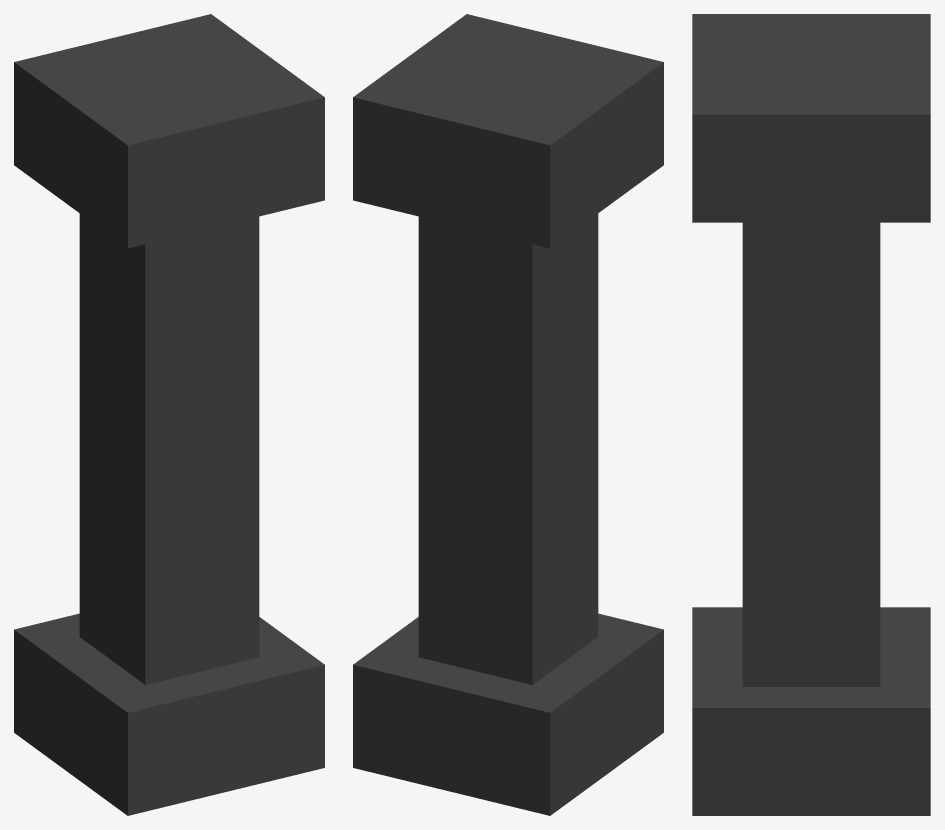
The model's file is pilar3.obj.
3 renders of one model, left to right at view 1: azimuth 30°, elevation 25°; view 2: azimuth 150°, elevation 25°; view 3: azimuth 270°, elevation 25°, orthographic. The views are drawn at different scales.
Parts seen in each view (by area): view 1: Pillar.007; view 2: Pillar.007; view 3: Pillar.007.
Part boxes in pixels (left/top/right/bottom): Pillar.007: left=14, top=14, right=324, bottom=815; Pillar.007: left=353, top=14, right=663, bottom=815; Pillar.007: left=692, top=14, right=930, bottom=815.
Bounding box in the file's own units: 1 × 3.25 × 1.
Materials: 1 (1 with a texture image).
